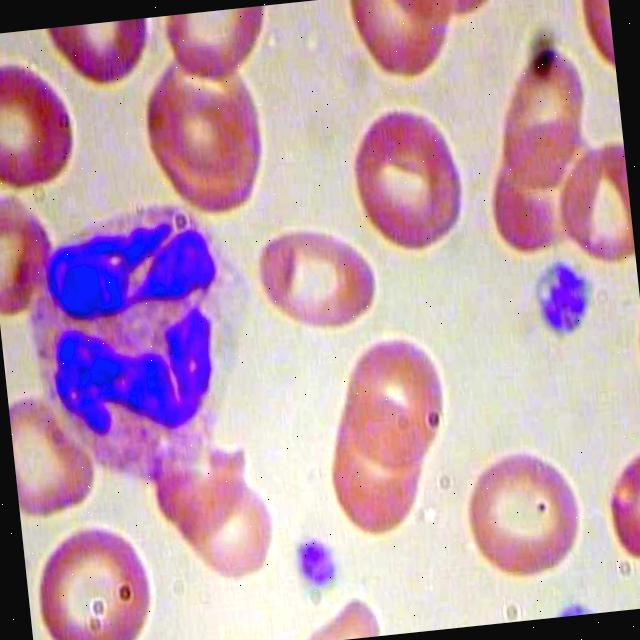Platelets: (523, 247, 599, 345), (284, 520, 350, 594)
RBC: (132, 37, 282, 222), (451, 431, 596, 590), (334, 96, 473, 260), (477, 42, 605, 202), (315, 382, 442, 540), (332, 324, 455, 482), (22, 510, 165, 640), (250, 214, 382, 338), (166, 460, 286, 591), (0, 48, 92, 199), (6, 382, 101, 522), (546, 124, 636, 268), (337, 0, 469, 91), (42, 15, 164, 96), (156, 3, 278, 83), (0, 181, 69, 320)
WBC: (14, 185, 266, 488)
